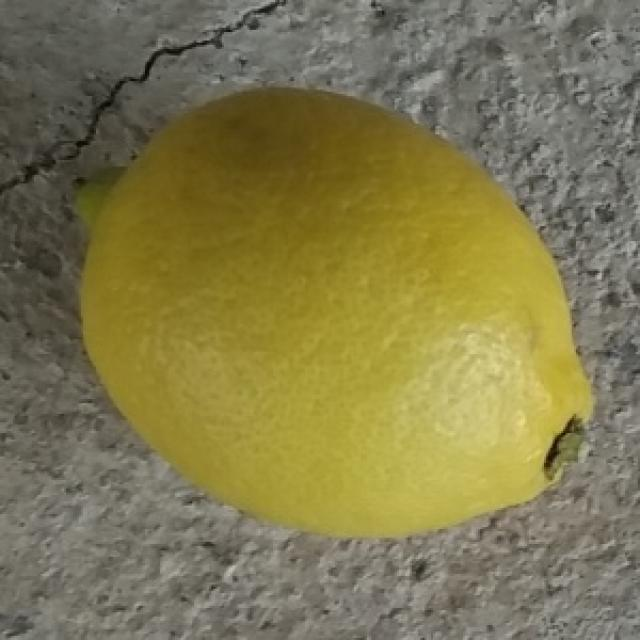Ripe: (61, 80, 604, 540)
